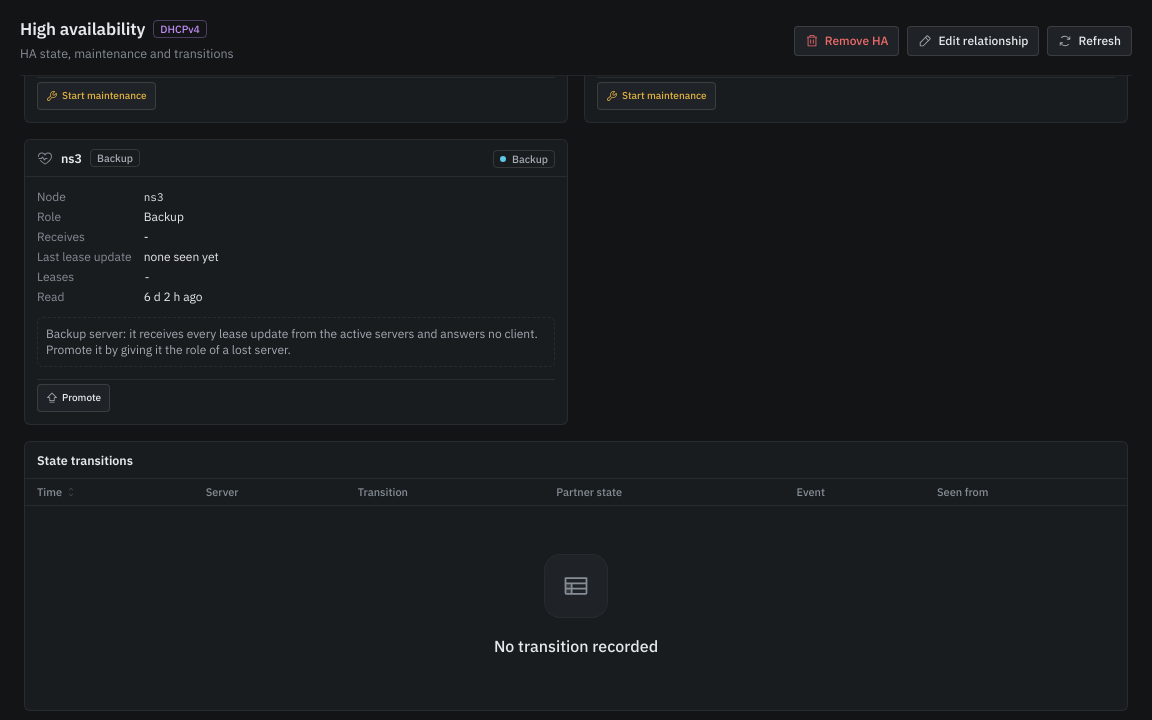
Test: HA page with backups › promotes a backup into the standby role
(page scrolled)
Step 1. Click the button with test id "ha-promote" → click(74, 398), box [37, 384, 110, 412]
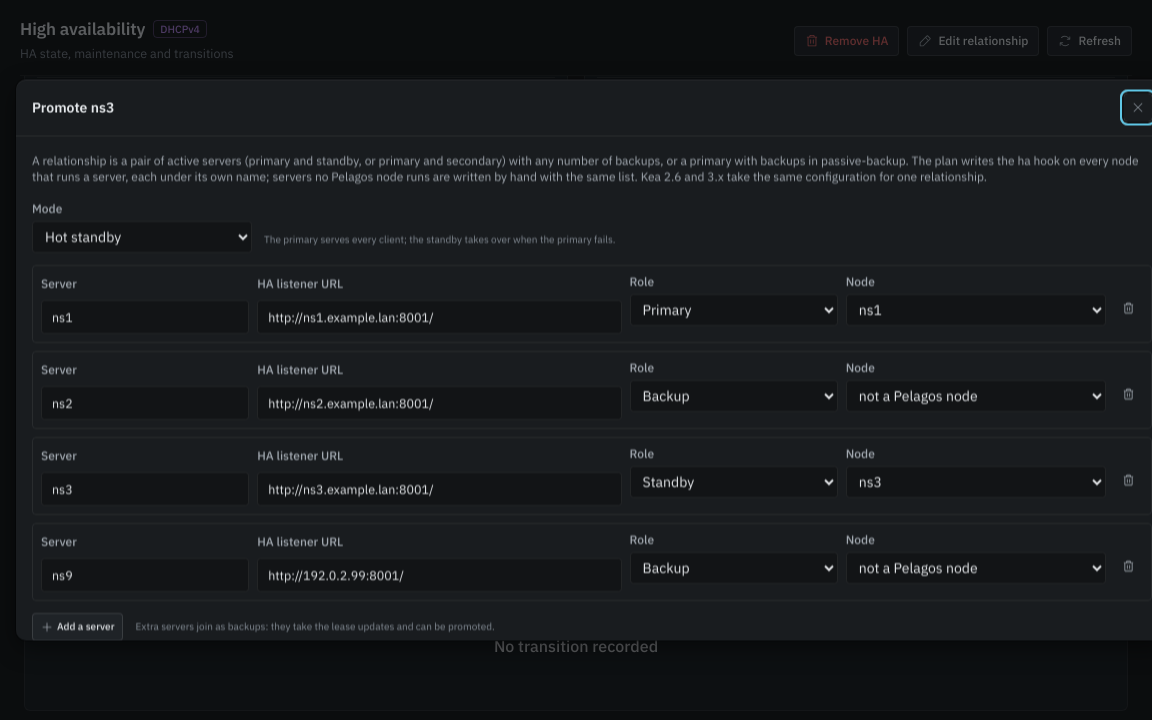
A second standby is refused.
Step 2. Select "Standby" in the dropdown with test id "ha-setup-role" → (734, 396), box [630, 380, 838, 412]
(page scrolled)
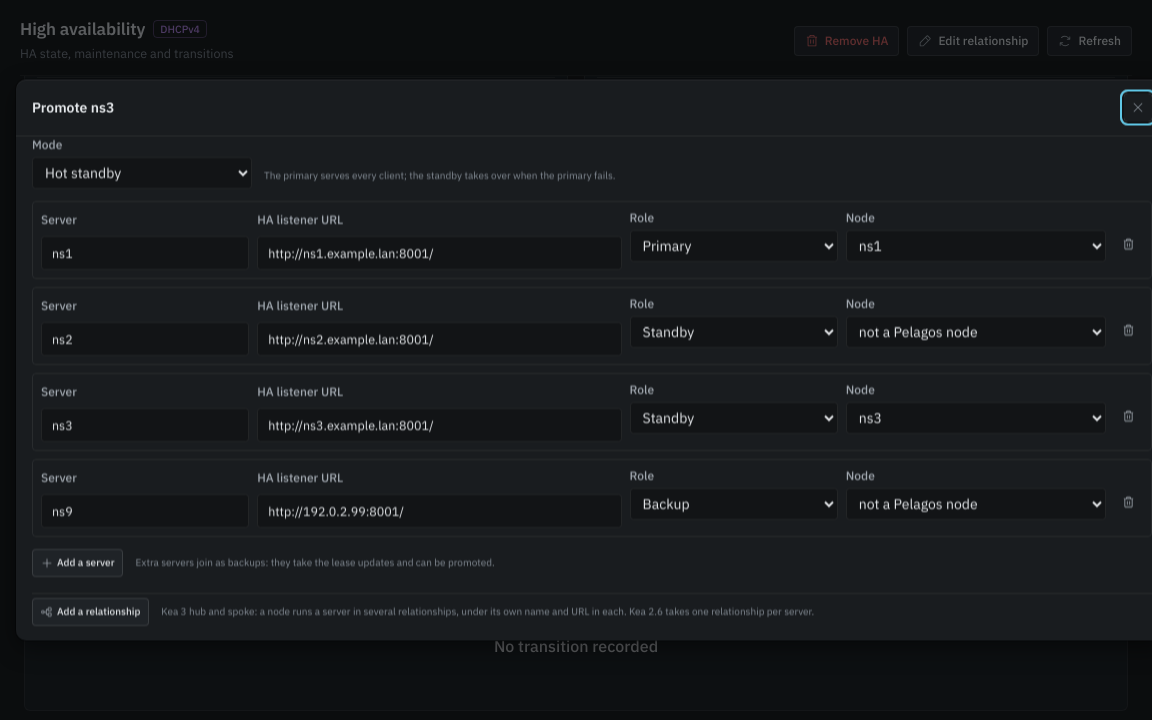
Step 3. Submit the form with test id "ha-setup-form"
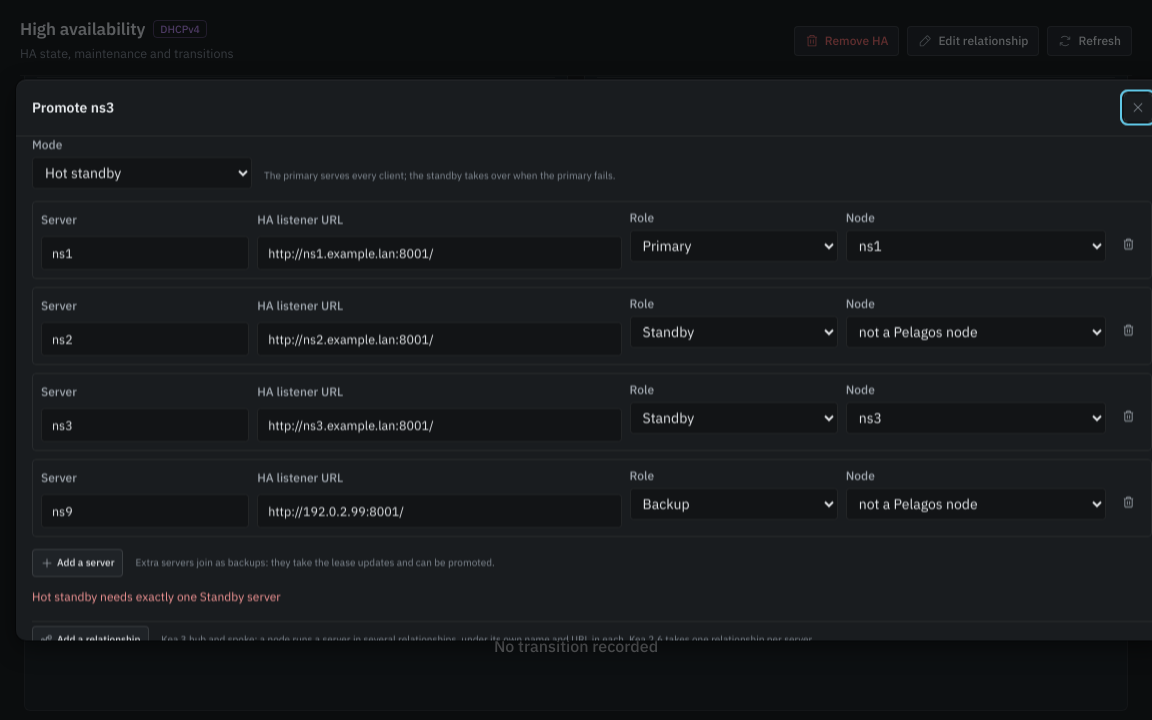
expect the text with test id "ha-setup-error" shows "needs exactly one": met, box [32, 588, 281, 604]
